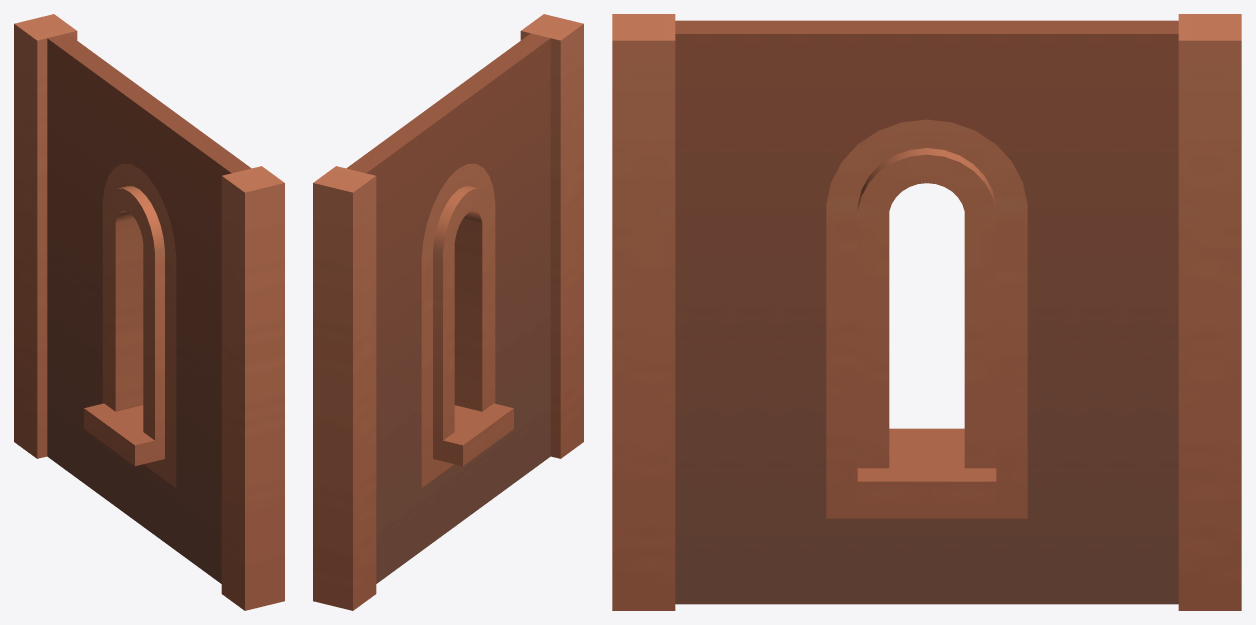
The model's file is wallWoodWindowRound.fbx.
3 renders of one model, left to right at view 1: azimuth 30°, elevation 25°; view 2: azimuth 150°, elevation 25°; view 3: azimuth 270°, elevation 25°, orthographic. The views are drawn at different scales.
Parts seen in each view (by area): view 1: wallWoodWindowRound; view 2: wallWoodWindowRound; view 3: wallWoodWindowRound.
Part boxes in pixels (left/top/right/bottom): wallWoodWindowRound: left=14, top=14, right=284, bottom=610; wallWoodWindowRound: left=313, top=14, right=583, bottom=610; wallWoodWindowRound: left=612, top=14, right=1241, bottom=610.
Bounding box in the file's own units: 0.2 × 1 × 1.
